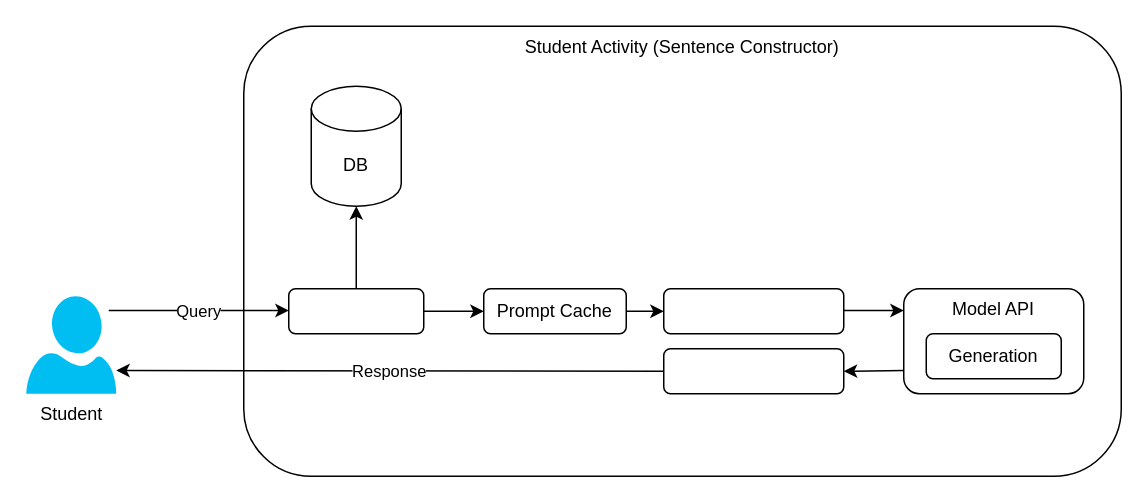
Image size: 1148x503. Some labels were removed from this diagram. The centre of each missing label's shape, as x and y in pixels:
"Input Guardrails" belongs at pixel 753 310.
"Output Guardrails" belongs at pixel 753 370.
"RAG" belongs at pixel 355 310.
